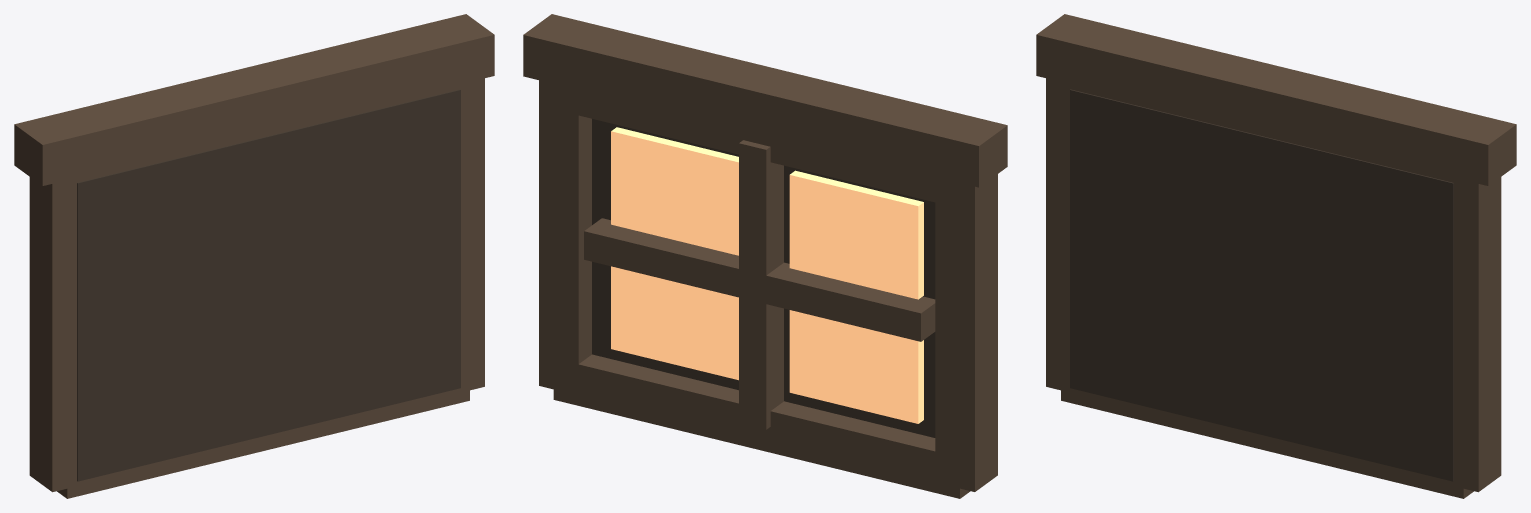
The model's file is window_glow_panel.glb.
The picture shows the model from 3 angles, left to right: view 1: azimuth 30°, elevation 25°; view 2: azimuth 150°, elevation 25°; view 3: azimuth 330°, elevation 25°; orthographic projection.
Visible parts, largest first — view 1: window_glow_panel; view 2: window_glow_panel; view 3: window_glow_panel.
Part boxes in pixels (bbox=[...]): window_glow_panel: bbox=[14, 14, 494, 498]; window_glow_panel: bbox=[523, 14, 1007, 498]; window_glow_panel: bbox=[1036, 14, 1516, 498].
Bounding box in the file's own units: 0.92 × 0.7 × 0.1025.
